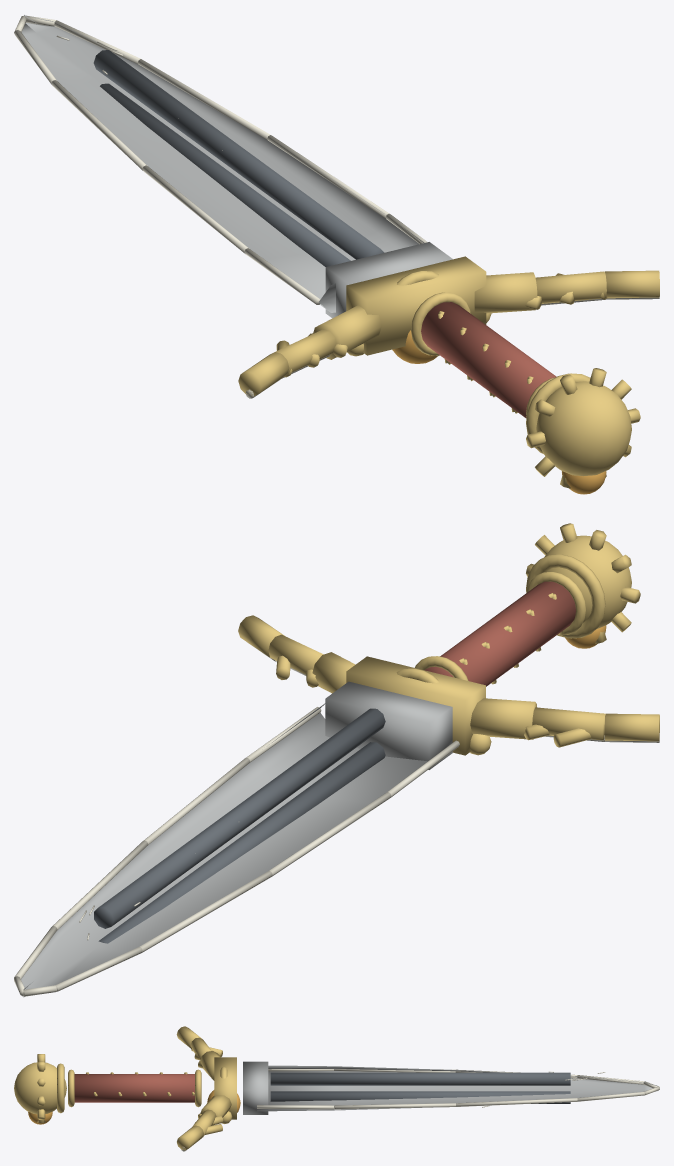
3 views of the same model, one above another, from view 1: azimuth 30°, elevation 25°; view 2: azimuth 150°, elevation 25°; view 3: azimuth 270°, elevation 25° (orthographic). The views are drawn at different scales.
Parts seen in each view (by area): view 1: gold, steel, black, edge, wrap, gem; view 2: steel, gold, black, edge, wrap; view 3: steel, black, gold, wrap, edge, gem.
Boxes of the visible parts, <box> form: gold: <box>238,256,659,488</box>; steel: <box>21,15,452,318</box>; black: <box>93,50,384,266</box>; edge: <box>14,15,659,398</box>; wrap: <box>421,302,556,418</box>; gem: <box>392,330,606,494</box>; steel: <box>21,681,452,997</box>; gold: <box>238,523,659,755</box>; black: <box>94,708,385,943</box>; edge: <box>14,642,659,996</box>; wrap: <box>425,581,575,686</box>; steel: <box>243,1061,658,1114</box>; black: <box>270,1072,570,1103</box>; gold: <box>14,1026,236,1150</box>; wrap: <box>74,1074,194,1102</box>; edge: <box>181,1069,659,1151</box>; gem: <box>28,1090,240,1124</box>.
Bounding box in the file's own units: 3.04 × 0.8227 × 7.32.
